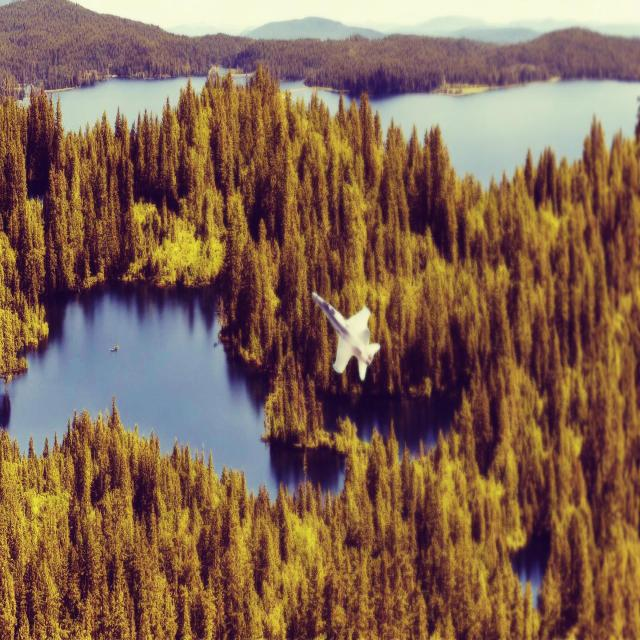airplane: (311, 290, 380, 381)
